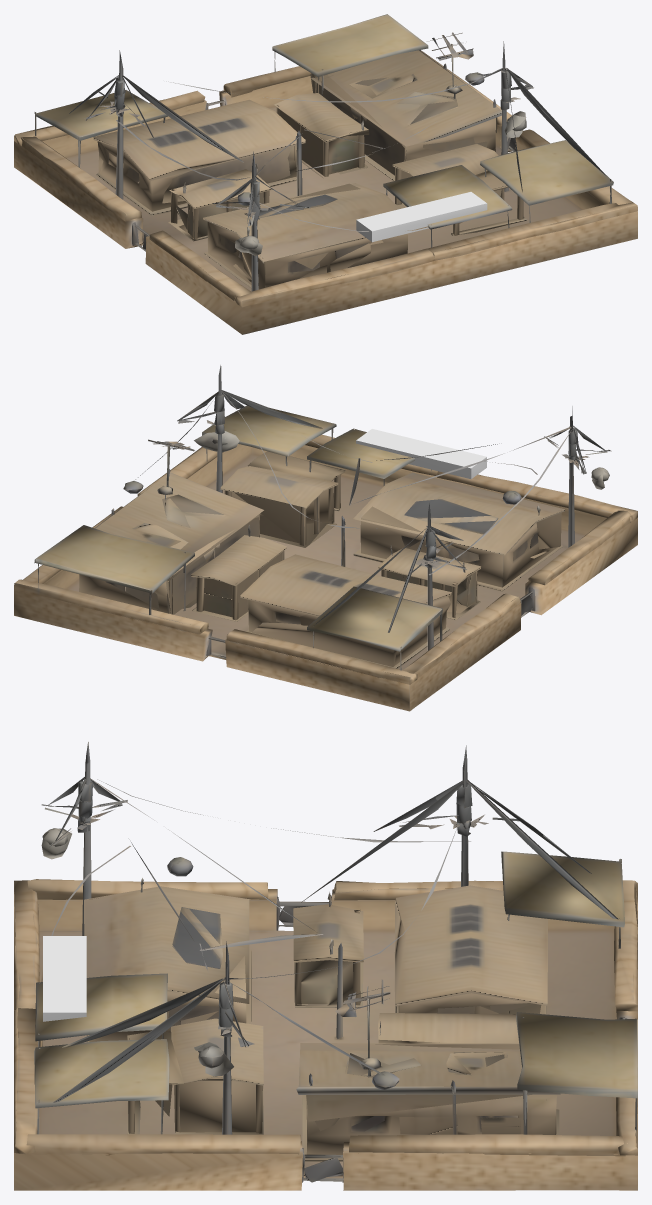
The picture shows the model from 3 angles, top to bottom: view 1: azimuth 30°, elevation 25°; view 2: azimuth 150°, elevation 25°; view 3: azimuth 270°, elevation 25°; orthographic projection. The views are drawn at different scales.
Parts seen in each view (by area): view 1: us-hq; view 2: us-hq; view 3: us-hq.
Boxes of the visible parts, x1,y1,x2,y2 form: us-hq: (14,14,637,334); us-hq: (14,365,637,711); us-hq: (14,742,637,1190).
Bounding box in the file's own units: 3.44 × 1.35 × 3.44.
2 materials, 1 textured.
